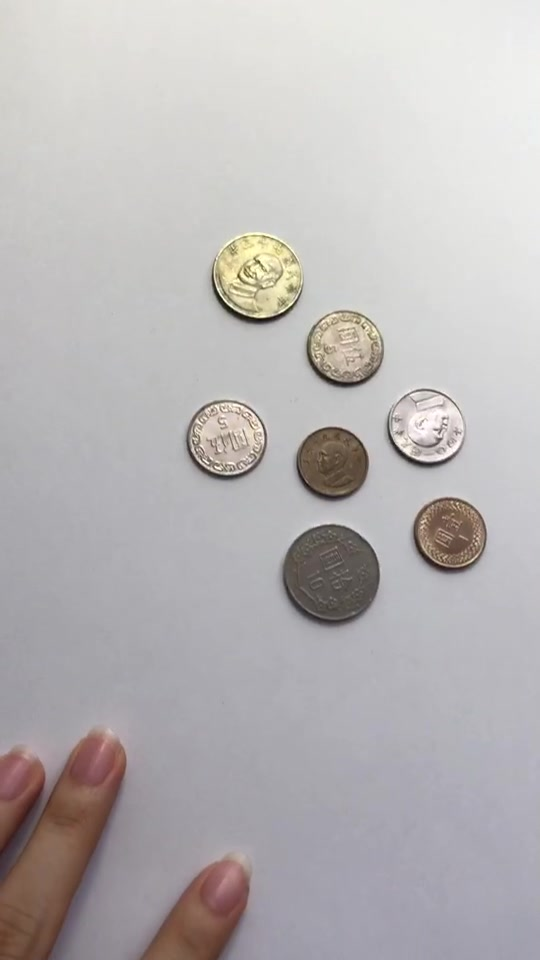1 dallar: (289, 422, 371, 504), (409, 492, 491, 574)
10 dallar: (274, 516, 384, 628), (206, 226, 310, 325)
5 dallar: (181, 396, 271, 480), (299, 309, 389, 393), (382, 388, 472, 472)
